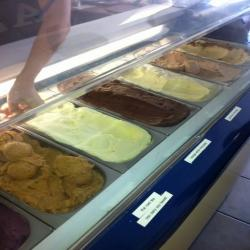icecream: (23, 95, 155, 176), (1, 127, 105, 214), (123, 60, 222, 113)
